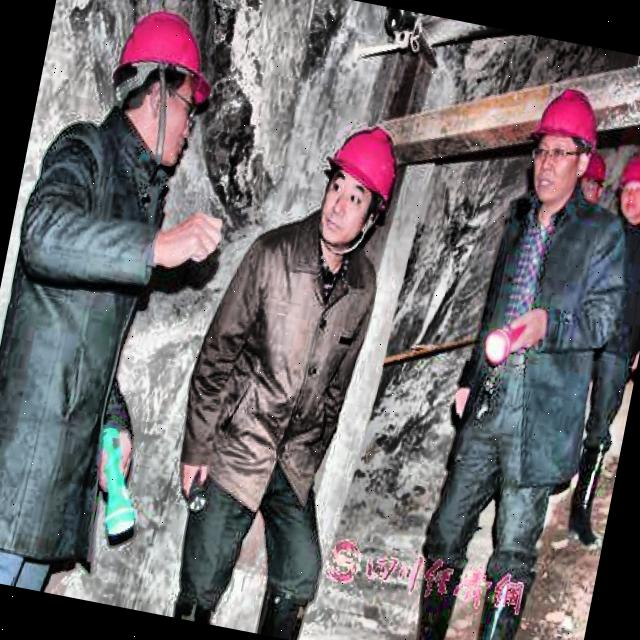helmet: (89, 0, 231, 172), (306, 114, 412, 259), (514, 79, 612, 209), (570, 146, 615, 215), (611, 148, 640, 226)
